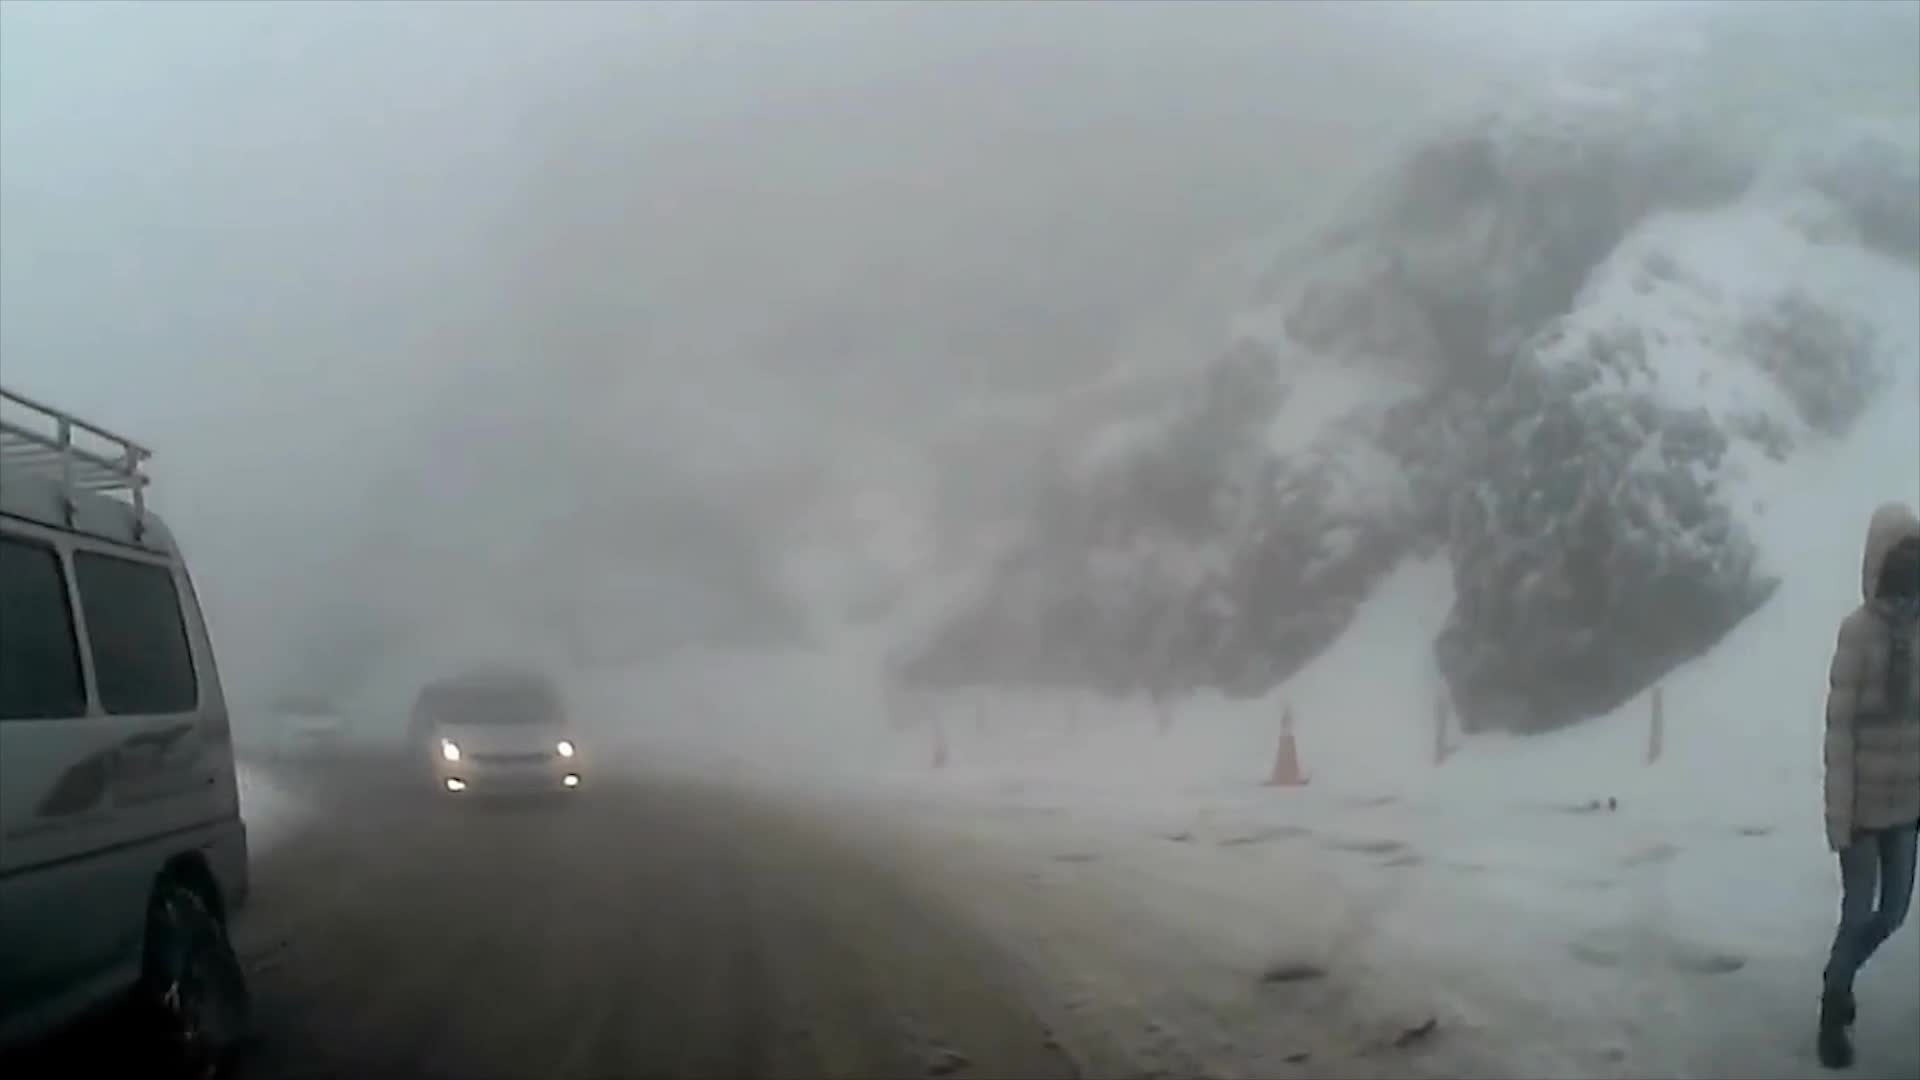pedestrian: (1822, 502, 1920, 1065)
vehicle: (0, 386, 288, 1080), (401, 674, 584, 815)
